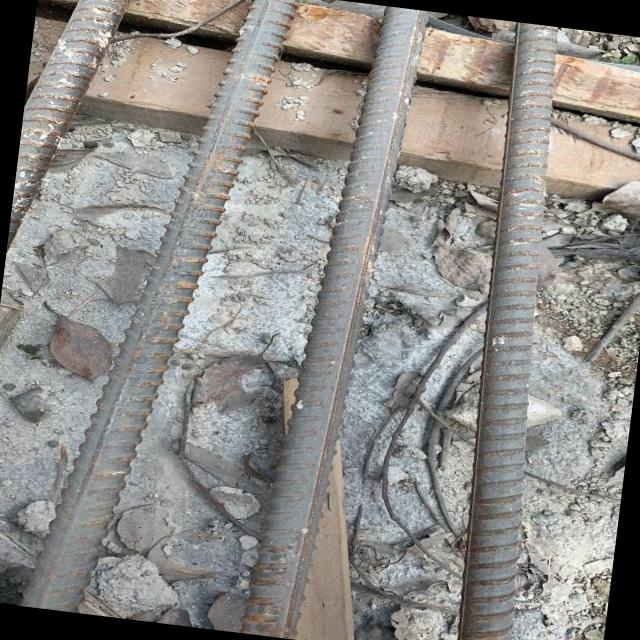ribbed bar: (12, 0, 305, 630), (233, 0, 429, 640), (435, 21, 589, 640), (6, 0, 146, 265)
